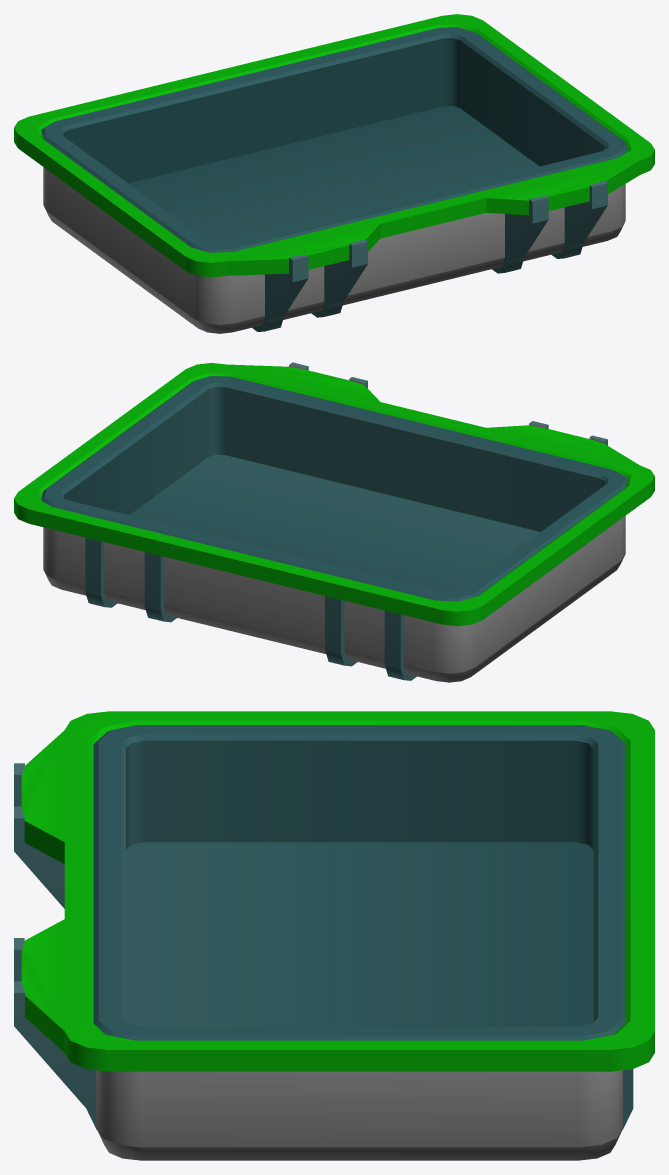
File: Container_10.fbx
The picture shows the model from 3 angles, top to bottom: view 1: azimuth 30°, elevation 25°; view 2: azimuth 150°, elevation 25°; view 3: azimuth 270°, elevation 25°; orthographic projection. The views are drawn at different scales.
Parts seen in each view (by area): view 1: Container_10; view 2: Container_10; view 3: Container_10.
Part boxes in pixels (x1,y1,x2,y2): Container_10: (14, 14, 654, 333); Container_10: (14, 362, 654, 682); Container_10: (14, 711, 654, 1160).
Size of the model in its own units: 67.19 by 13.46 by 53.72.
